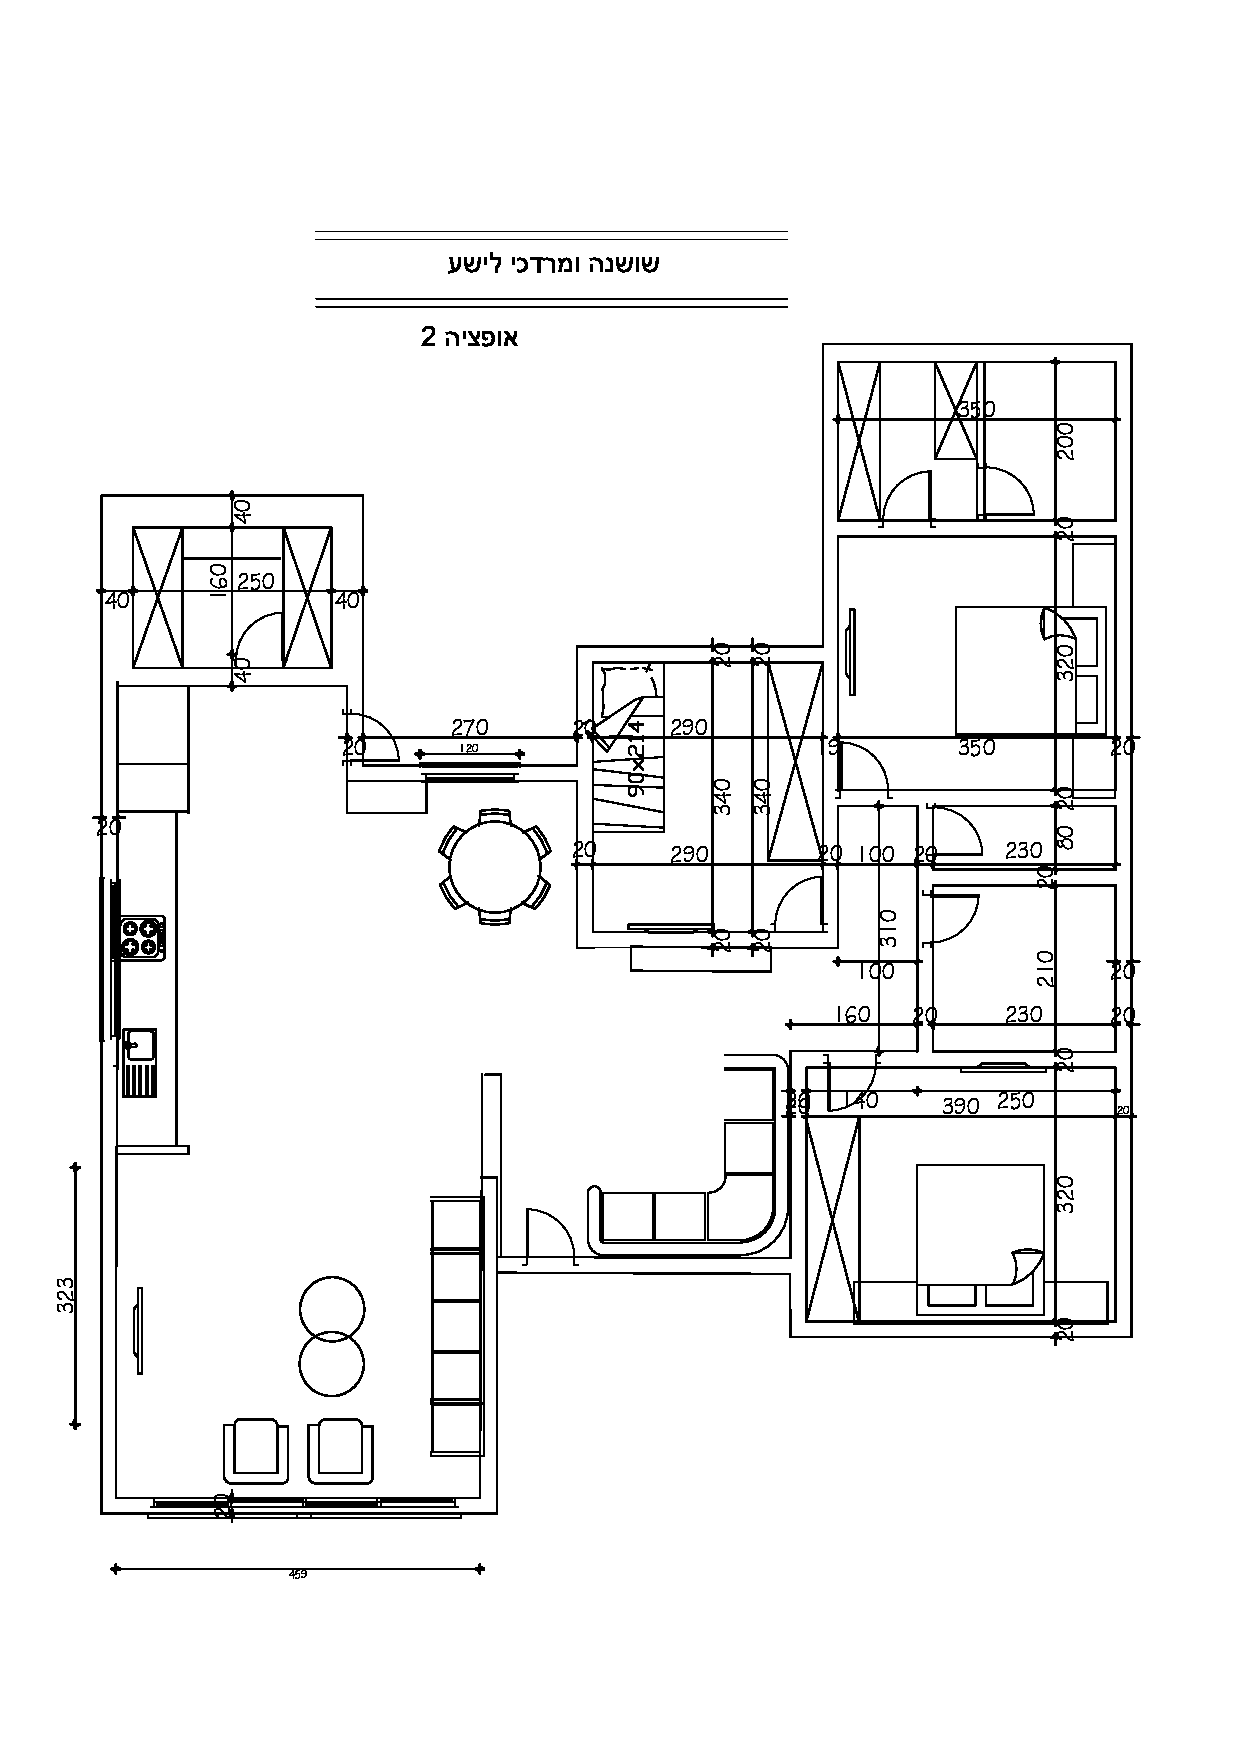door: (517, 1194, 578, 1260), (931, 890, 990, 949), (764, 875, 825, 929), (831, 743, 892, 794), (925, 811, 988, 859), (988, 467, 1039, 522), (887, 468, 939, 521)
